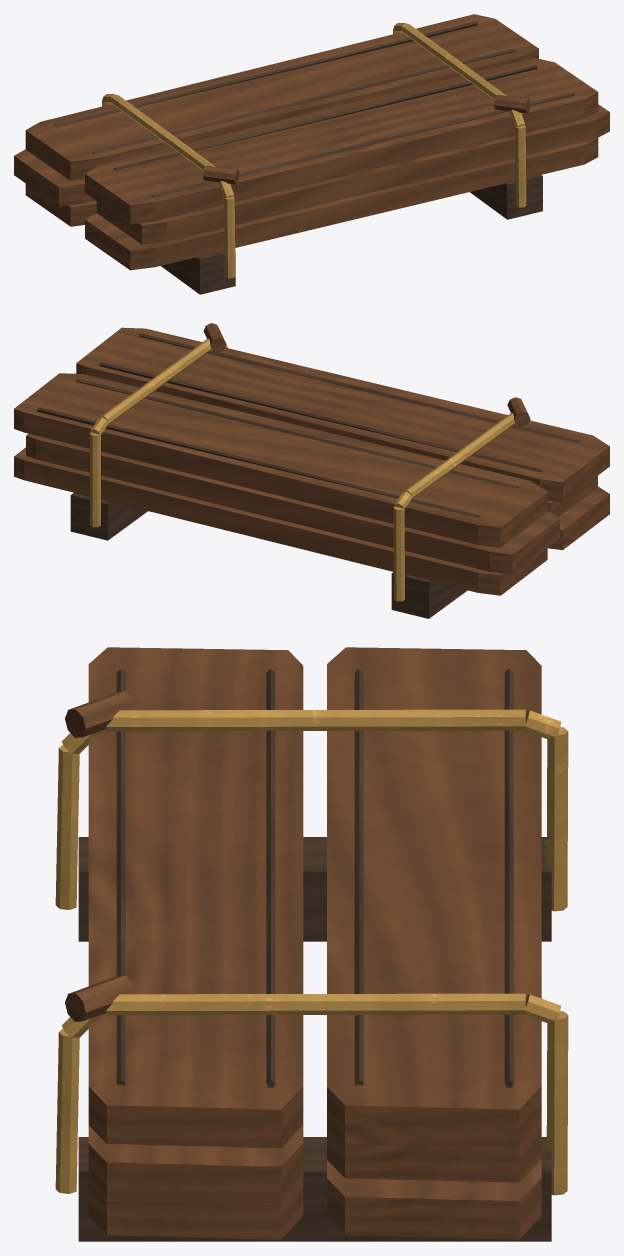
The model's file is suedweg_ersatzbohlen.glb.
3 renders of one model, top to bottom at view 1: azimuth 30°, elevation 25°; view 2: azimuth 150°, elevation 25°; view 3: azimuth 270°, elevation 25°, orthographic. The views are drawn at different scales.
Visible parts, largest first — view 1: Suedweg_Ersatzbohlen; view 2: Suedweg_Ersatzbohlen; view 3: Suedweg_Ersatzbohlen.
Boxes of the visible parts, left/top/right/bottom form: Suedweg_Ersatzbohlen: left=14, top=14, right=609, bottom=294; Suedweg_Ersatzbohlen: left=14, top=323, right=609, bottom=618; Suedweg_Ersatzbohlen: left=55, top=647, right=568, bottom=1241.
Bounding box in the file's own units: 1.44 × 0.326 × 0.65.
Materials: 1 (1 with a texture image).
